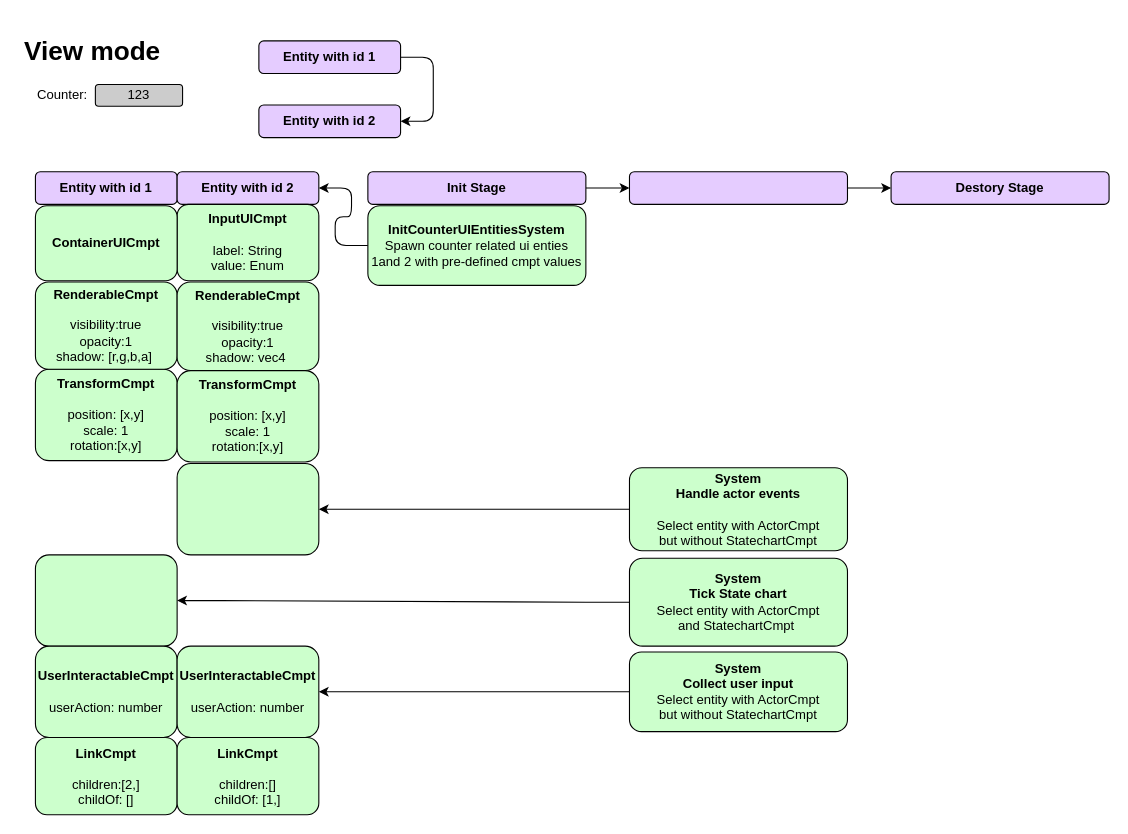
Image size: 1128x834. Some labels were removed from this diagram. Each missing label, with the centre of its shape:
"StatechartCmpt ActorCmpt StatechartCmpt" belongs at point 105,600.
"TypedActorCmpt <Event, Data> priorityMailBox: Event[] contextData: Data" belongs at point 247,508.
"Update Loop Stage" belongs at point 737,187.
